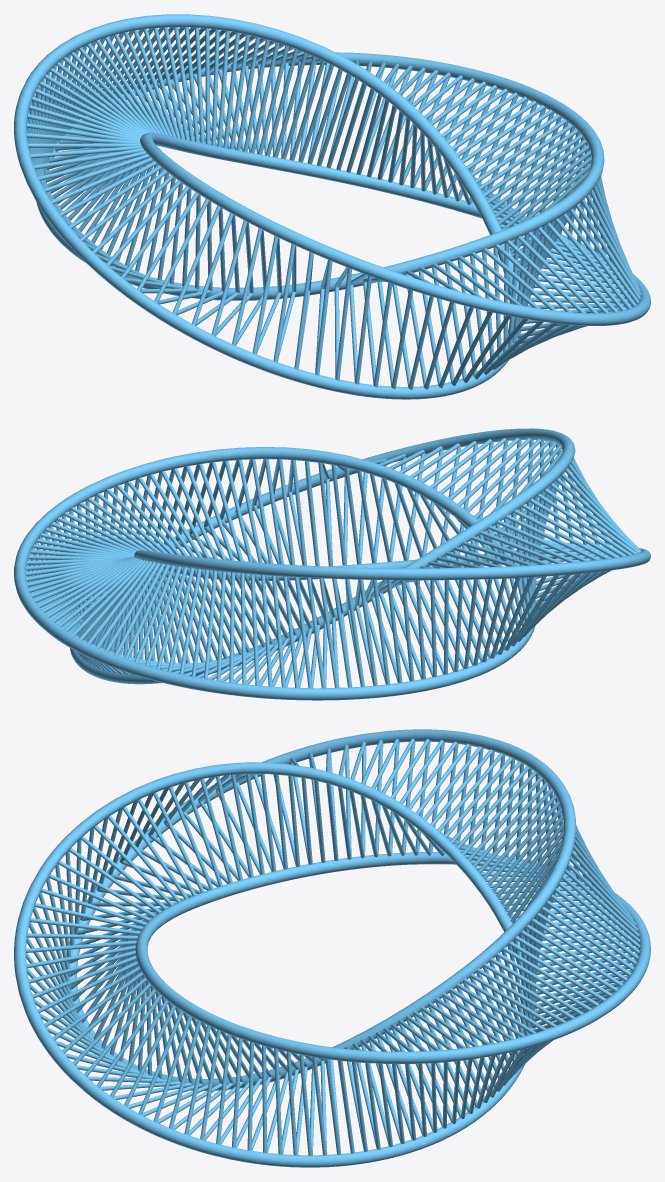
File: moebiusStrip2.glb
3 views of the same model, one above another, from view 1: azimuth 30°, elevation 25°; view 2: azimuth 150°, elevation 25°; view 3: azimuth 270°, elevation 25° (orthographic). The views are drawn at different scales.
Visible parts, largest first — view 1: 3DGeom-1447_Defintion; view 2: 3DGeom-1447_Defintion; view 3: 3DGeom-1447_Defintion.
Boxes of the visible parts, box(x1,y1,x2,y2) form: 3DGeom-1447_Defintion: box(14, 14, 650, 399); 3DGeom-1447_Defintion: box(14, 428, 650, 700); 3DGeom-1447_Defintion: box(14, 729, 650, 1167).
Size of the model in its own units: 1.91 by 0.7445 by 1.99.
